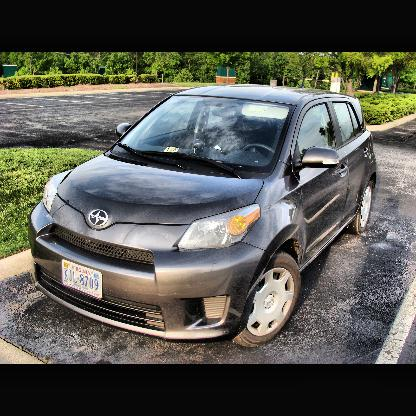Scion xD Hatchback 2012: (29, 83, 379, 351)
